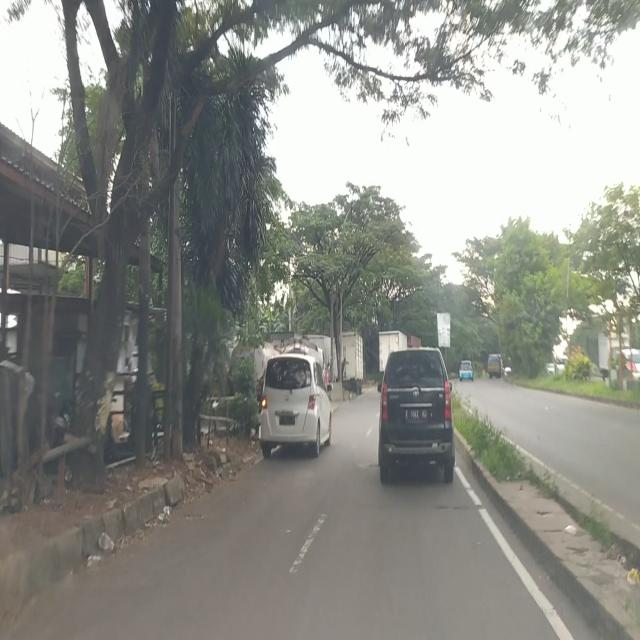Sewer Cover: (435, 502, 475, 511)
